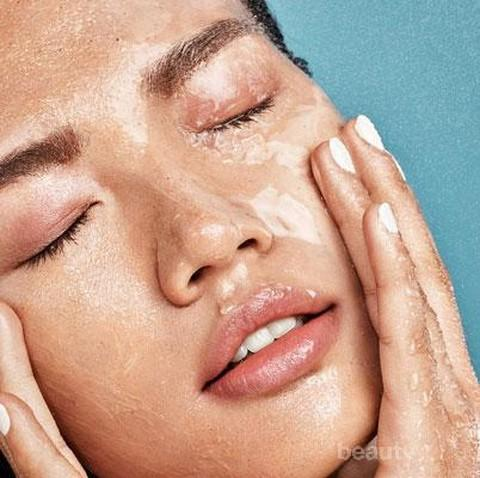Oily-Skin: (239, 179, 334, 235), (91, 77, 159, 150), (179, 226, 245, 293), (284, 76, 347, 130)
